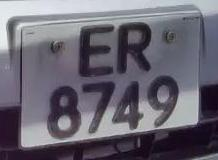4: (111, 77, 147, 134)
7: (82, 78, 118, 138)
8: (43, 80, 85, 143)
9: (144, 73, 184, 132)
E: (74, 16, 119, 82)
R: (113, 20, 157, 81)
